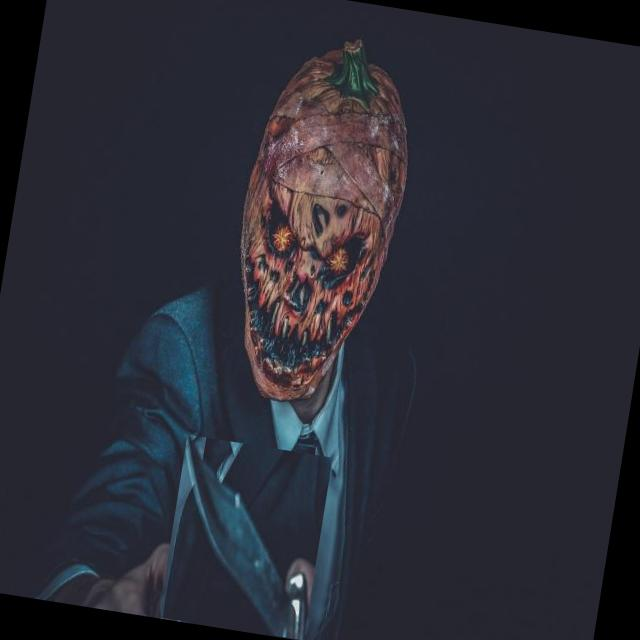Knife: (185, 435, 308, 640)
